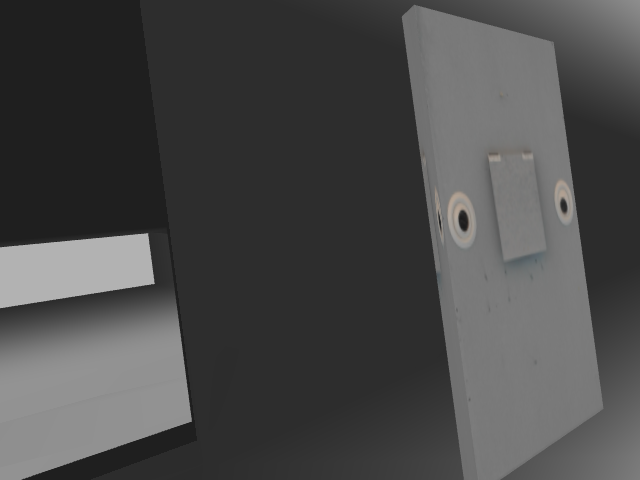facade: (445, 149, 576, 267)
